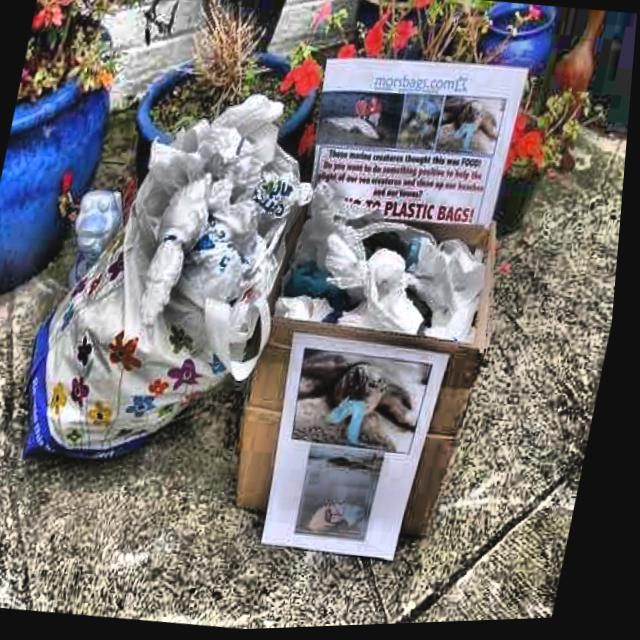Plastic: (25, 100, 322, 503)
